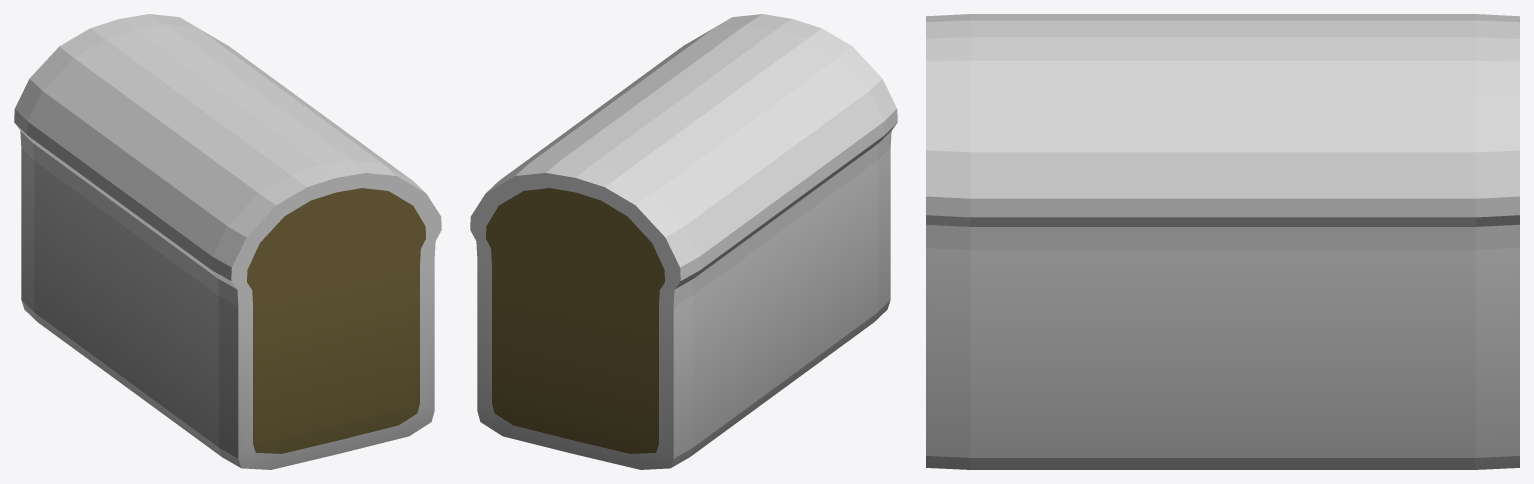
File: pq_pain.glb
3 renders of one model, left to right at view 1: azimuth 30°, elevation 25°; view 2: azimuth 150°, elevation 25°; view 3: azimuth 270°, elevation 25°, orthographic. The views are drawn at different scales.
Parts seen in each view (by area): view 1: Bread; view 2: Bread; view 3: Bread.
Boxes of the visible parts, <box> form: Bread: <box>14,14,441,469</box>; Bread: <box>470,14,897,469</box>; Bread: <box>926,14,1519,469</box>.
Size of the model in its own units: 0.1733 by 0.2118 by 0.2998.
